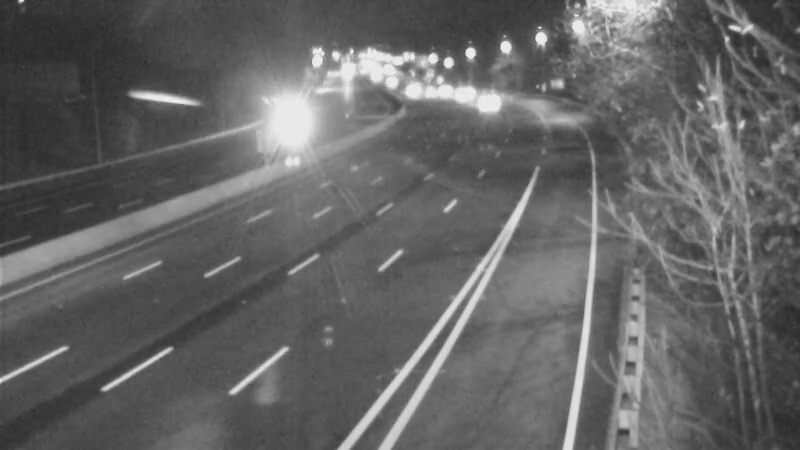vehicle: (385, 61, 435, 111), (420, 65, 470, 115), (403, 65, 453, 115), (434, 68, 484, 118), (457, 77, 507, 127), (263, 97, 313, 147)
